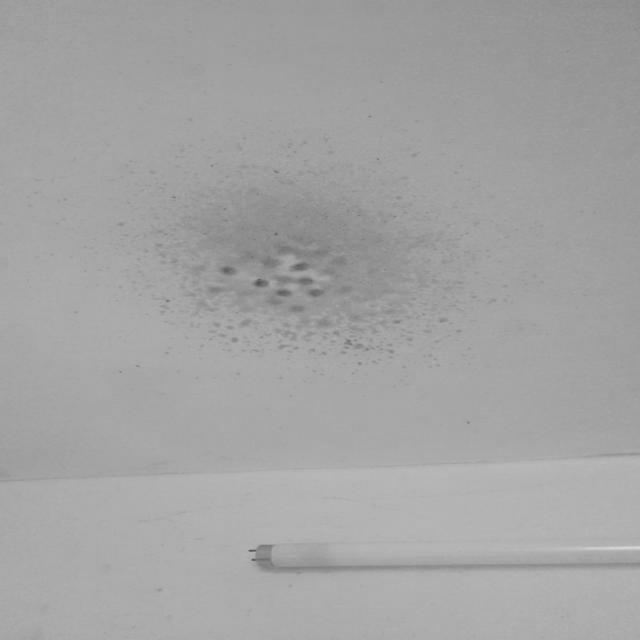stain marks: (122, 154, 494, 368)
